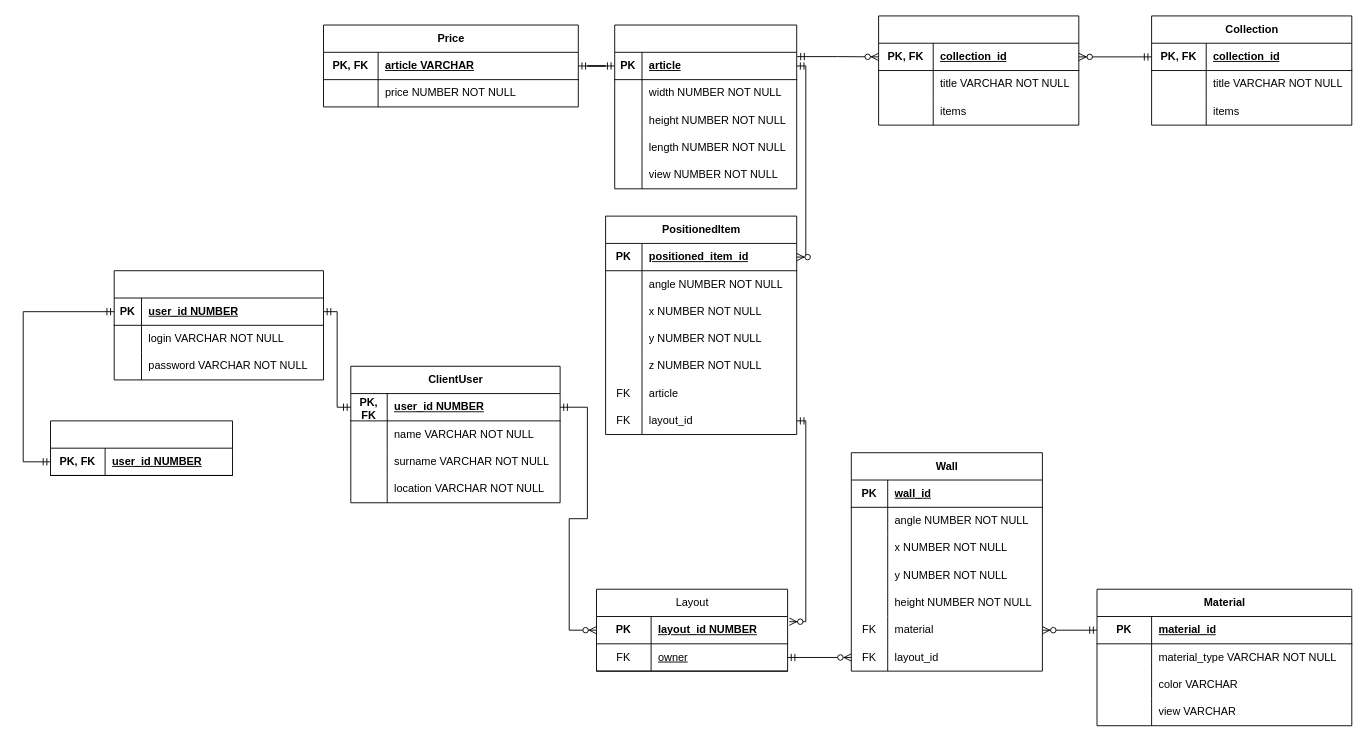
The diagram is 1368 pixels wide and 742 high, and some of its shapes have lost their labels. The shapes that lost their labels are listed below. From the top down, each one's box as (x1, y1, x2, y2) in pixels, then its label:
(878, 15, 1079, 125): ItemInCollection
(614, 24, 797, 189): Item
(113, 270, 324, 380): AbstractUser
(50, 420, 233, 475): AdminUser
